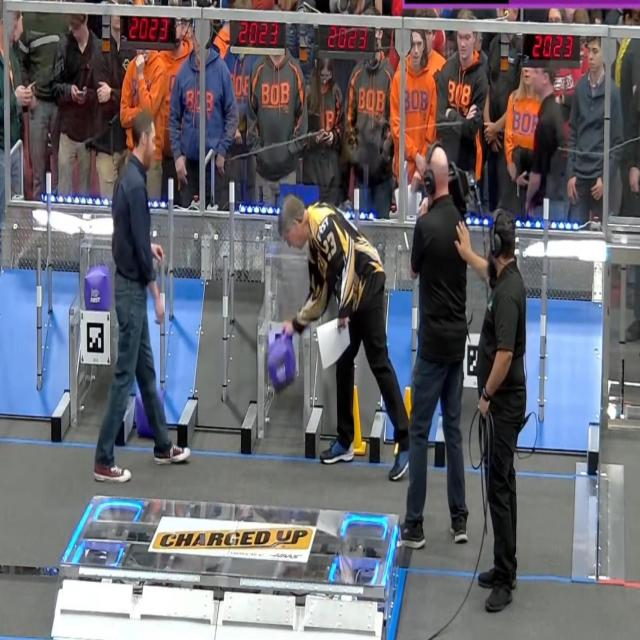frc_cone: (353, 384, 367, 454), (404, 388, 413, 423)
frc_cube: (265, 332, 297, 390), (85, 267, 111, 310), (135, 386, 154, 442)
